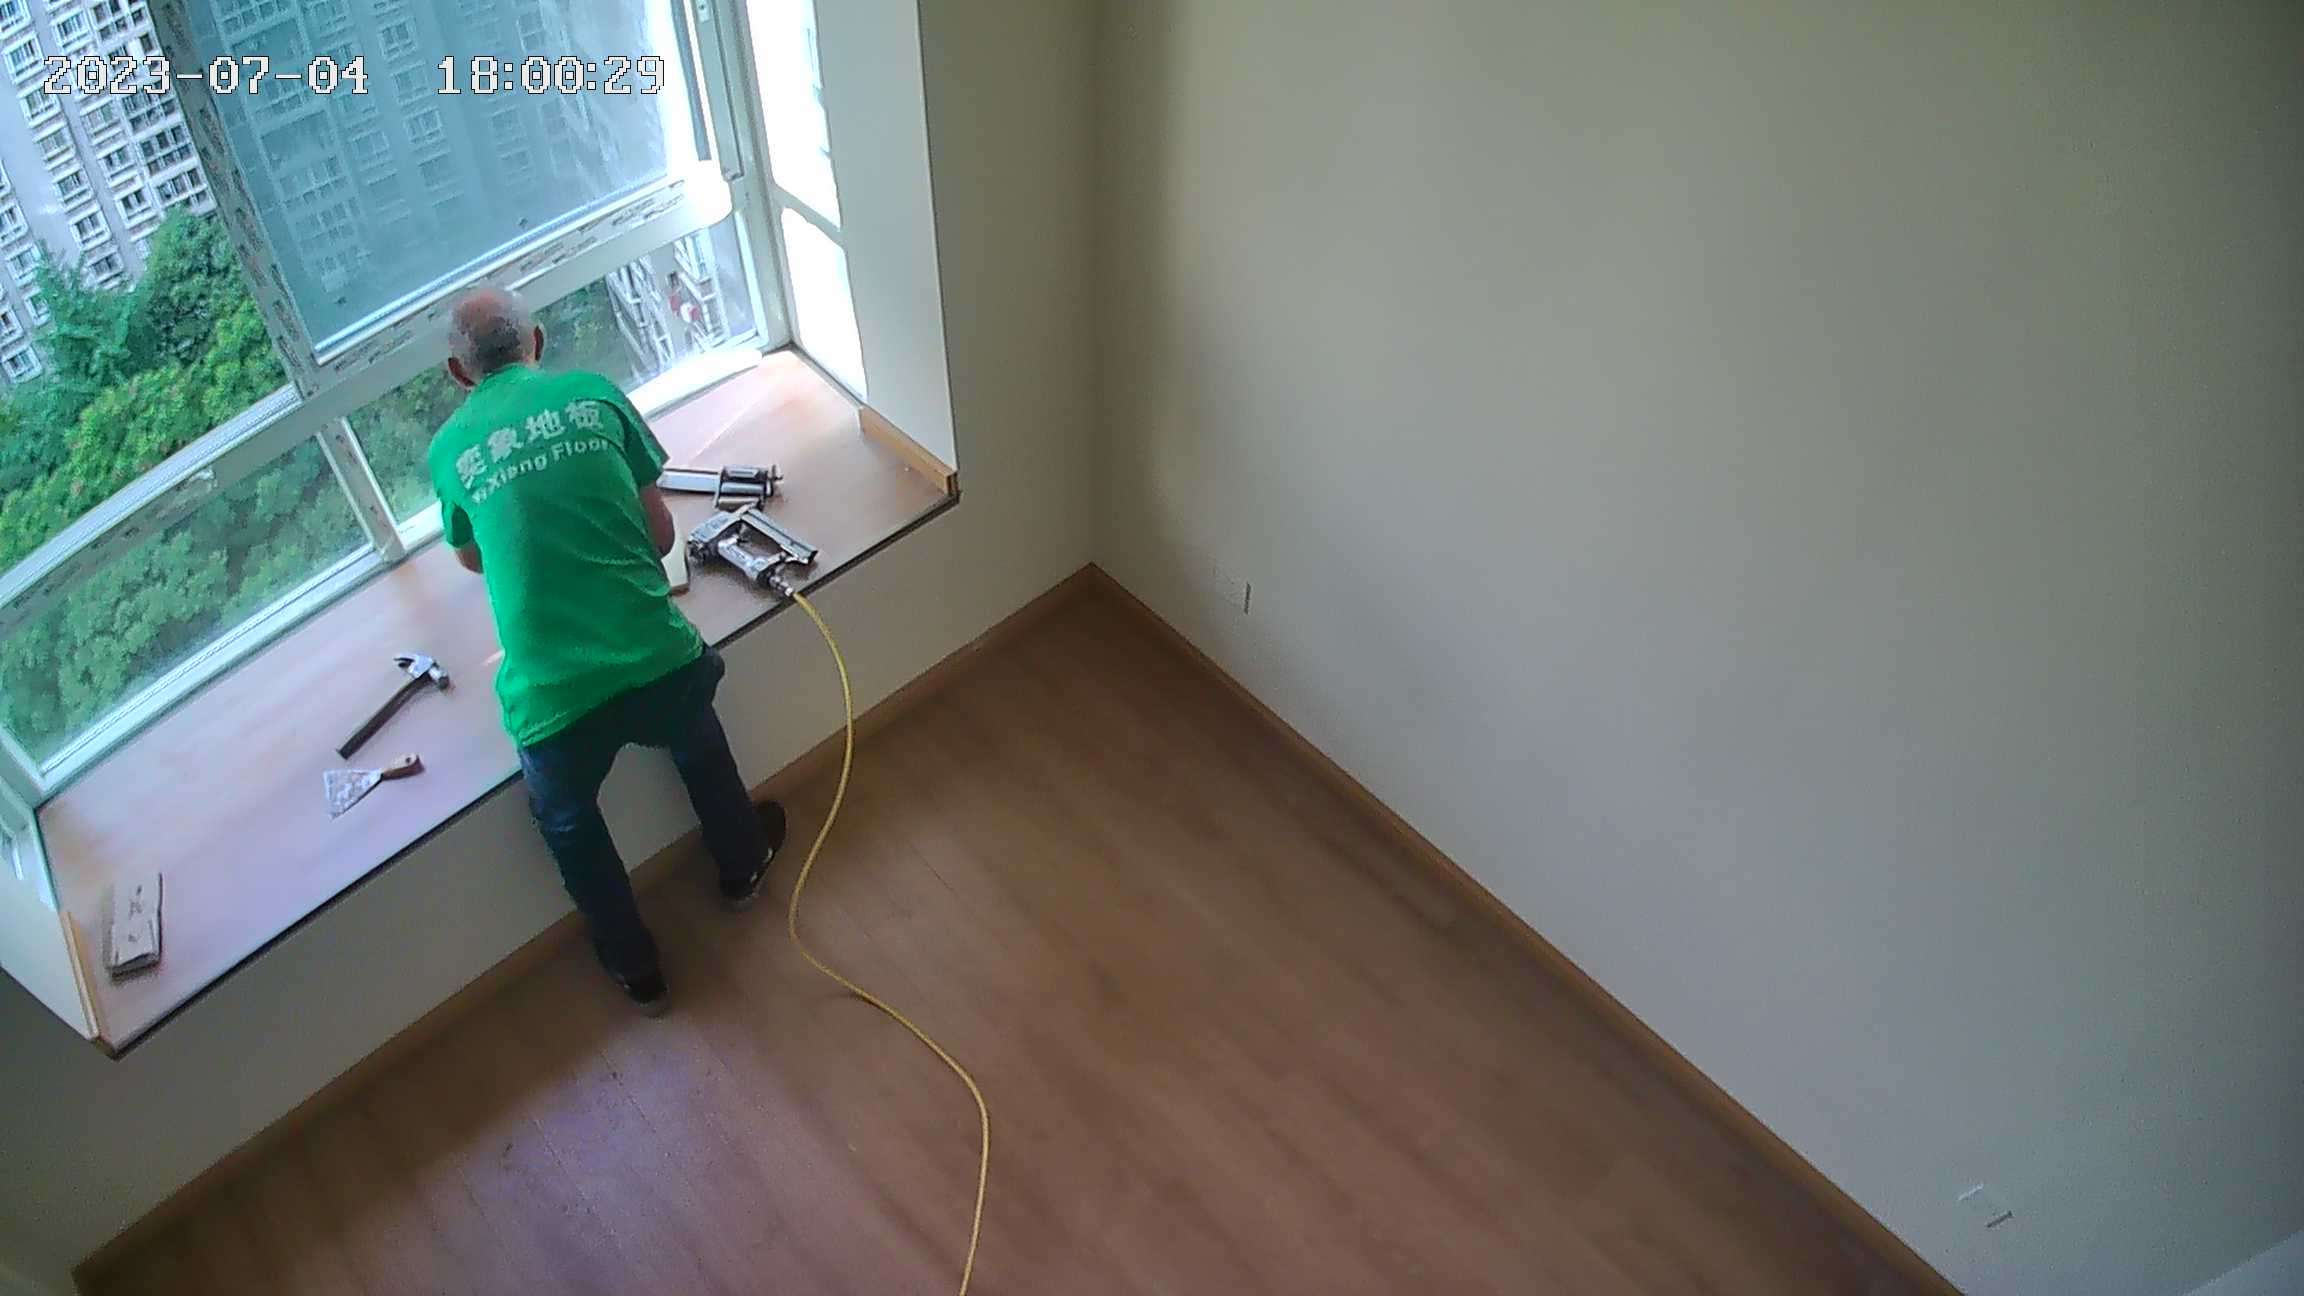people: (419, 281, 815, 1017)
window: (2, 6, 843, 713)
